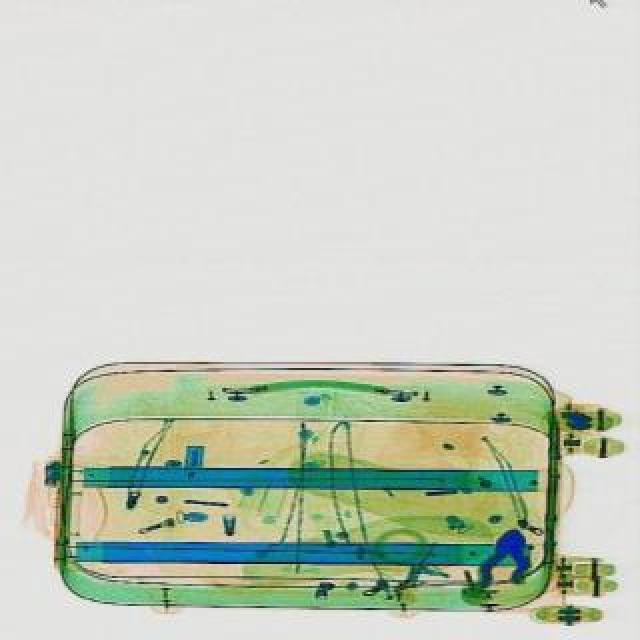wrench: (474, 524, 536, 594)
